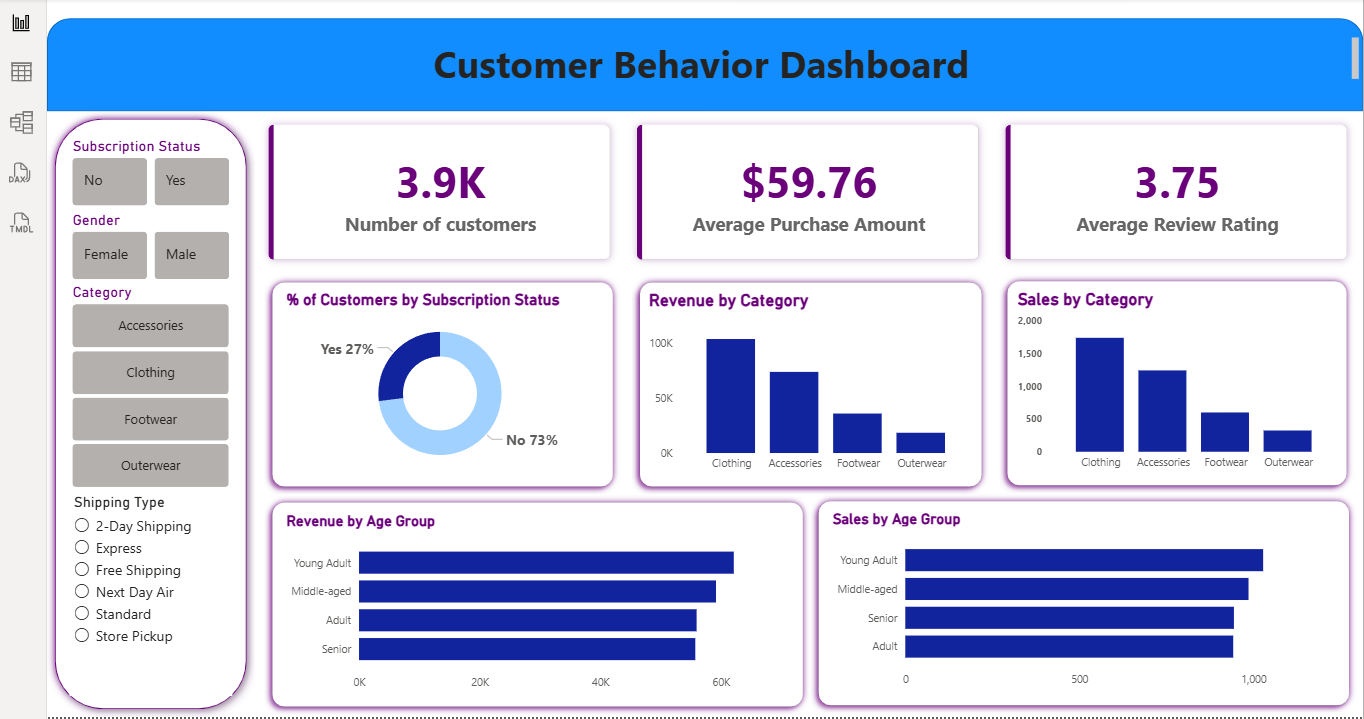

The page's visual inventory and layout, read from the dashboard file:
{"tool":"powerbi","page":{"name":"Page 1","canvas":[1500,820],"ordinal":0},"visuals":[{"type":"cardVisual","fields":{"Data":["public customer.Number of customers","public customer.Average Purchase Amount","public customer.Average Review Rating"]},"box":[236.5,129.7,1263.8,186.6],"z":0},{"type":"shape","box":[0,24.1,1500.3,106.1],"z":1000},{"type":"textbox","box":[0,41.8,1500.3,69.1],"z":2000},{"type":"shape","box":[247.9,316.3,406.1,250.8],"z":3000},{"type":"donutChart","title":"% of Customers by Subscription Status","fields":{"Category":["public customer.subscription_status"],"Y":["CountNonNull(public customer.customer_id)"]},"box":[267.9,334.8,360.5,213.7],"z":4000},{"type":"shape","box":[666.1,316.3,407.5,250.8],"z":5000},{"type":"shape","box":[1085.7,314.9,404.6,250.8],"z":6000},{"type":"clusteredColumnChart","title":"Revenue by Category","fields":{"Category":["public customer.category"],"Y":["Sum(public customer.purchase_amount)"]},"box":[681,334.8,379,215.1],"z":7000},{"type":"clusteredColumnChart","title":"Sales by Category","fields":{"Y":["CountNonNull(public customer.customer_id)"],"Category":["public customer.category"]},"box":[1101.4,333.4,376.1,215.1],"z":8000},{"type":"shape","box":[0,129.7,236.5,691],"z":9000},{"type":"advancedSlicerVisual","title":"Category","fields":{"Values":["public customer.category"]},"box":[24.2,326.3,188.1,239.4],"z":10000},{"type":"advancedSlicerVisual","title":"Gender","fields":{"Values":["public customer.gender"]},"box":[24.2,243.6,188.1,84.1],"z":11000},{"type":"advancedSlicerVisual","title":"Subscription Status","fields":{"Values":["public customer.subscription_status"]},"box":[24.2,159.6,188.1,84.1],"z":12000},{"type":"listSlicer","fields":{"Values":["public customer.shipping_type"]},"box":[25.6,565.6,185.2,230.8],"z":13000},{"type":"clusteredBarChart","title":"Revenue by Age Group","fields":{"Y":["Sum(public customer.purchase_amount)"],"Category":["public customer.age_group"]},"box":[267.9,585.6,584.2,212.3],"z":14000},{"type":"shape","box":[247.9,567.1,622.6,250.8],"z":15000},{"type":"shape","box":[870.5,565.6,622.6,250.8],"z":16000},{"type":"clusteredBarChart","title":"Revenue by Age Group","fields":{"Y":["Sum(public customer.purchase_amount)"],"Category":["public customer.age_group"]},"box":[267.9,587,584.2,212.3],"z":17000},{"type":"clusteredBarChart","title":"Sales by Age Group","fields":{"Category":["public customer.age_group"],"Y":["CountNonNull(public customer.customer_id)"]},"box":[890.5,584.2,584.2,212.3],"z":17001}]}

Visuals, with their boxes in screenshot pixels (x1, y1, x2, y2):
cardVisual - public customer.Number of customers x public customer.Average Purchase Amount: bbox(261, 109, 1363, 276)
shape: bbox(50, 14, 1363, 109)
textbox: bbox(50, 30, 1363, 92)
shape: bbox(272, 276, 635, 500)
"% of Customers by Subscription Status" donutChart: bbox(289, 292, 612, 484)
shape: bbox(646, 276, 1010, 500)
shape: bbox(1021, 275, 1363, 499)
"Revenue by Category" clusteredColumnChart: bbox(659, 292, 998, 485)
"Sales by Category" clusteredColumnChart: bbox(1035, 291, 1363, 484)
shape: bbox(50, 109, 261, 718)
"Category" advancedSlicerVisual: bbox(71, 285, 240, 499)
"Gender" advancedSlicerVisual: bbox(71, 211, 240, 286)
"Subscription Status" advancedSlicerVisual: bbox(71, 136, 240, 211)
listSlicer - public customer.shipping_type: bbox(73, 499, 238, 705)
"Revenue by Age Group" clusteredBarChart: bbox(289, 517, 812, 707)
shape: bbox(272, 500, 829, 718)
shape: bbox(829, 499, 1363, 718)
"Revenue by Age Group" clusteredBarChart: bbox(289, 518, 812, 708)
"Sales by Age Group" clusteredBarChart: bbox(846, 516, 1363, 705)
